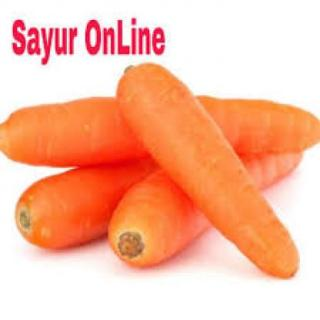Wortel: (114, 63, 303, 279), (15, 155, 154, 253), (1, 93, 156, 172)
